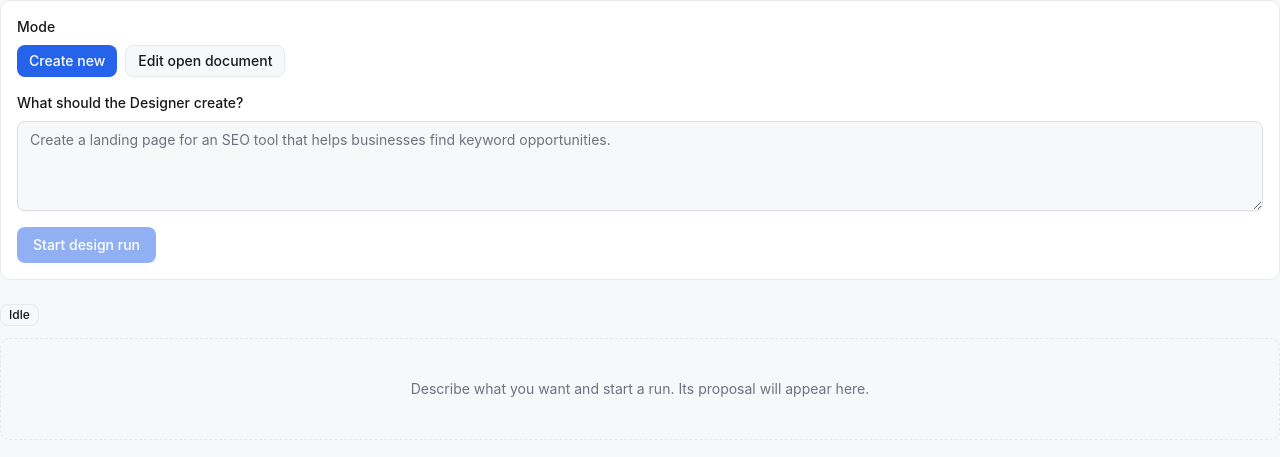
Test: DesignerMode › submits runs against the shared session project
Replace the text in the text box labelled "What should the Designer create?" with "Create a pricing page" at x=640, y=166, box [17,121,1263,211]
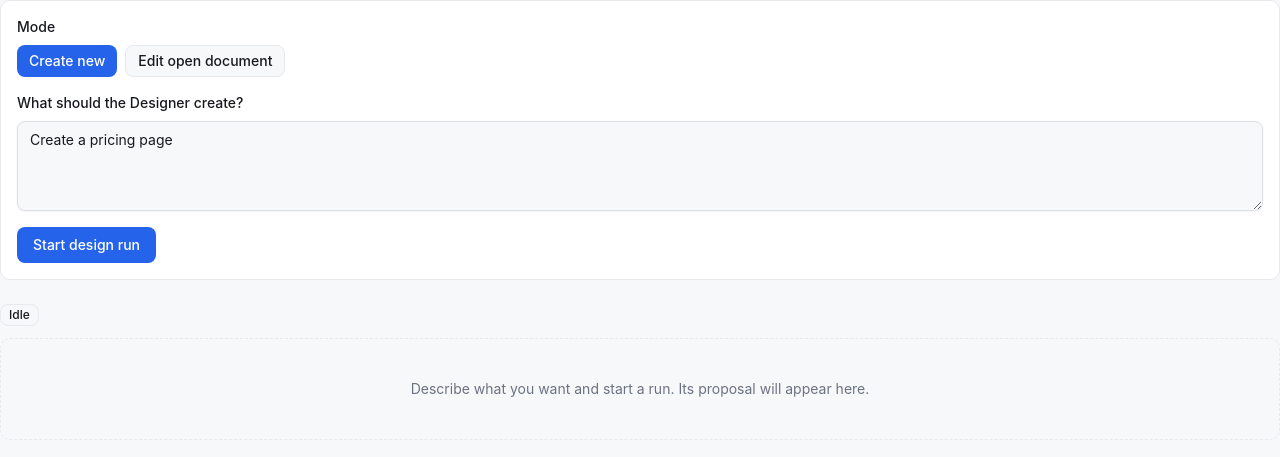
Click the button "Start design run".
click(86, 245)  # box [17,227,156,263]
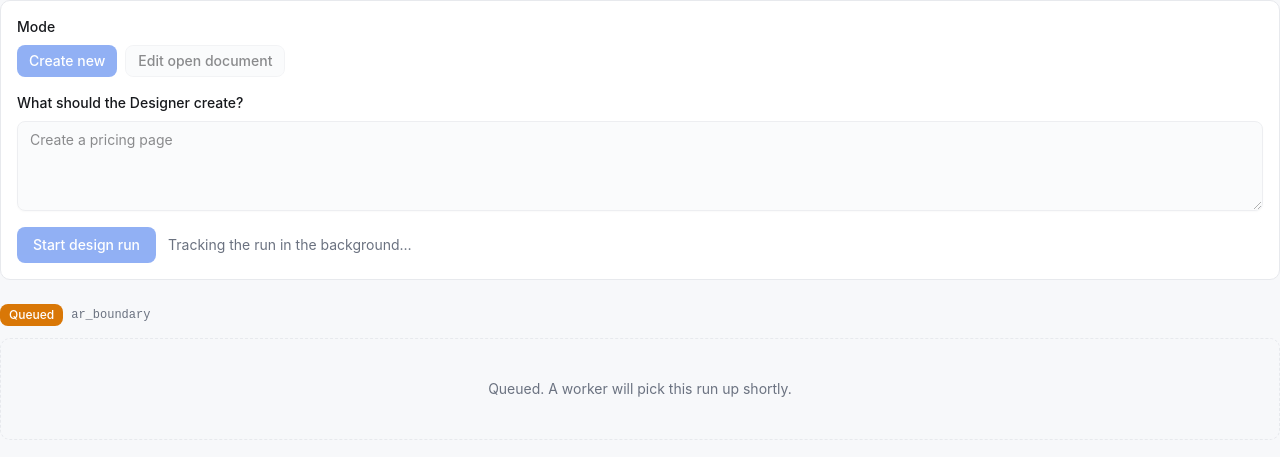
Result: the text "Queued" is shown at [0,304,63,326]
